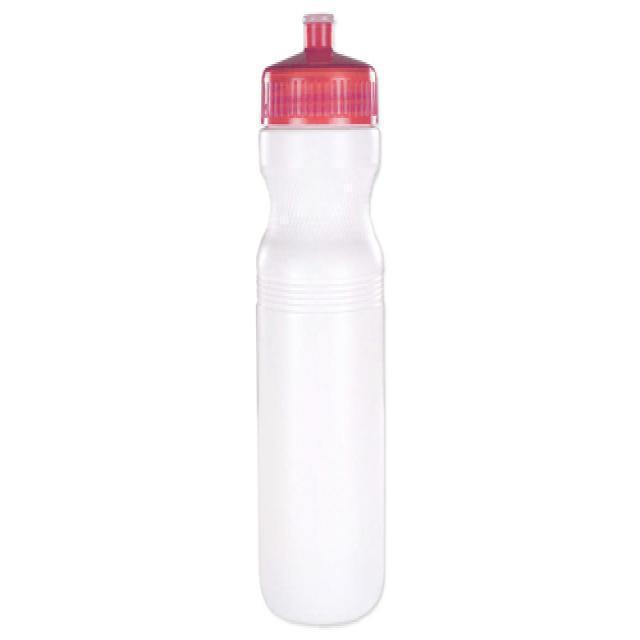Plastic: (255, 11, 383, 624)
